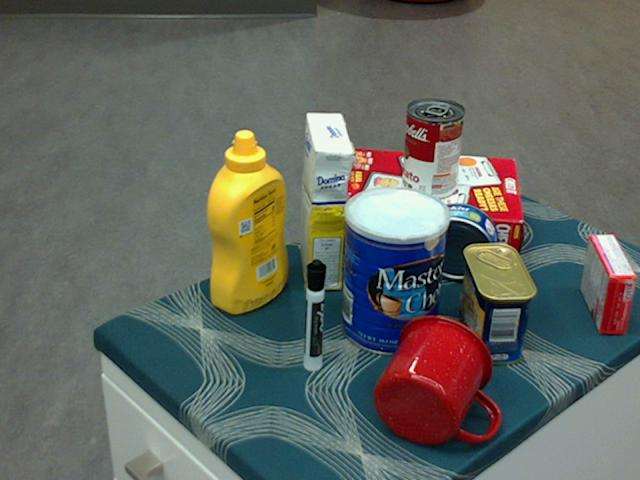cracker_box: (335, 150, 522, 263)
gelatin_box: (580, 234, 635, 335)
large_marker: (302, 259, 324, 373)
master_chef_can: (342, 186, 451, 356)
mug: (374, 314, 497, 445)
mustard_bottle: (205, 130, 288, 315)
potted_meat_can: (459, 243, 538, 364)
sugar_box: (298, 113, 351, 292)
tomato_soup_can: (403, 99, 464, 201)
tuna_fish_can: (420, 202, 498, 280)
